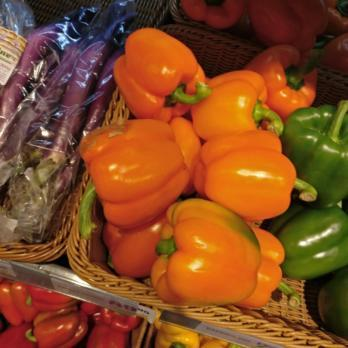Capsicum: (98, 23, 348, 309), (0, 312, 142, 348), (179, 1, 348, 24)
